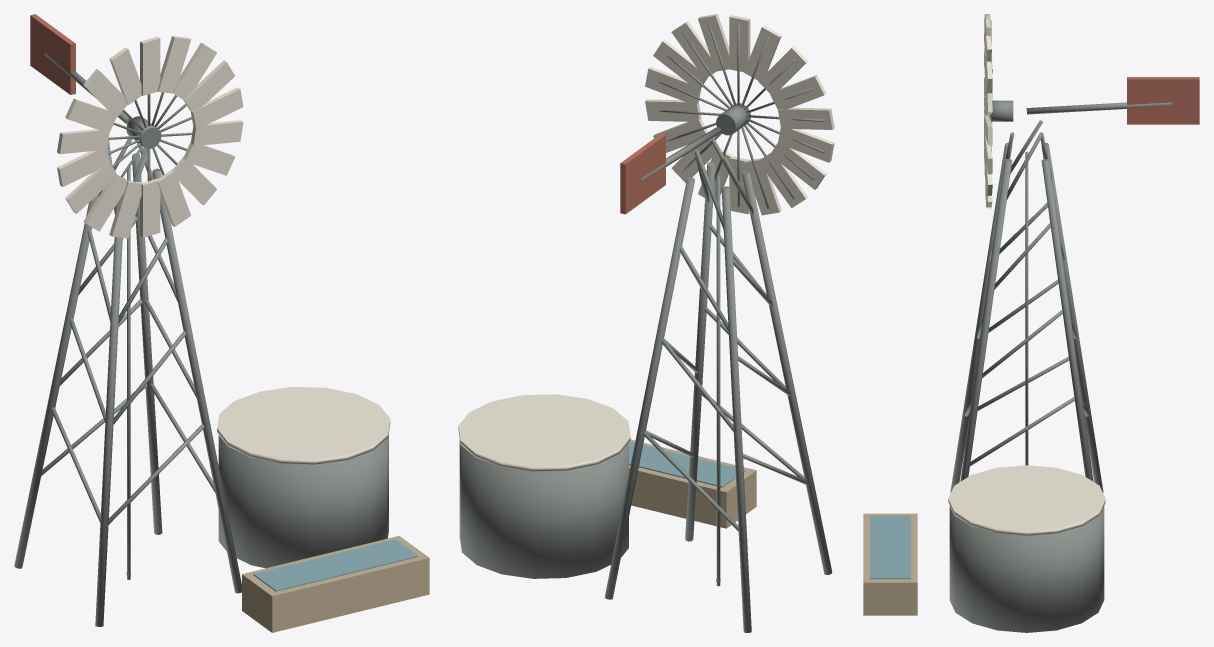
File: arizona-windpump_lod0.glb
3 renders of one model, left to right at view 1: azimuth 30°, elevation 25°; view 2: azimuth 150°, elevation 25°; view 3: azimuth 270°, elevation 25°, orthographic. The views are drawn at different scales.
Visible parts, largest first — view 1: RF_WaterTank, RF_TankTop, RF_Trough, RF_WindTower.003, RF_WindTower.001, RF_TroughWater, RF_WindTower.002, RF_WindTower, RF_TailVane, RF_PumpRod, RF_WindBlade.002, RF_WindBlade.001 (+19 smaller); view 2: RF_WaterTank, RF_TankTop, RF_Trough, RF_WindTower.002, RF_WindTower, RF_WindTower.001, RF_WindTower.003, RF_TailVane, RF_PumpRod, RF_TroughWater, RF_WindBlade.014, RF_WindBlade.015 (+19 smaller); view 3: RF_WaterTank, RF_TankTop, RF_TailVane, RF_Trough, RF_TroughWater, RF_WindTower.003, RF_WindTower, RF_WindTower.002, RF_WindTower.001, RF_PumpRod, RF_TailBoom, RF_TowerBrace.004 (+1 smaller).
Boxes of the visible parts, x1=… form: RF_WaterTank: x1=218, y1=433, x2=388, y2=568; RF_TankTop: x1=217, y1=387, x2=390, y2=464; RF_Trough: x1=242, y1=536, x2=429, y2=632; RF_WindTower.003: x1=152, y1=168, x2=241, y2=593; RF_WindTower.001: x1=95, y1=178, x2=125, y2=626; RF_TroughWater: x1=253, y1=539, x2=418, y2=591; RF_WindTower.002: x1=14, y1=193, x2=99, y2=568; RF_WindTower: x1=132, y1=153, x2=162, y2=534; RF_TailVane: x1=30, y1=14, x2=75, y2=94; RF_PumpRod: x1=127, y1=167, x2=130, y2=579; RF_WindBlade.002: x1=157, y1=36, x2=191, y2=93; RF_WindBlade.001: x1=140, y1=36, x2=160, y2=95; RF_WaterTank: x1=459, y1=440, x2=628, y2=578; RF_TankTop: x1=458, y1=394, x2=630, y2=471; RF_Trough: x1=629, y1=439, x2=756, y2=528; RF_WindTower.002: x1=721, y1=186, x2=751, y2=632; RF_WindTower: x1=604, y1=177, x2=694, y2=599; RF_WindTower.001: x1=742, y1=170, x2=832, y2=574; RF_WindTower.003: x1=685, y1=162, x2=715, y2=541; RF_TailVane: x1=620, y1=134, x2=665, y2=214; RF_PumpRod: x1=716, y1=175, x2=720, y2=586; RF_TroughWater: x1=629, y1=442, x2=745, y2=487; RF_WindBlade.014: x1=778, y1=125, x2=834, y2=162; RF_WindBlade.015: x1=778, y1=107, x2=834, y2=129; RF_WaterTank: x1=949, y1=506, x2=1104, y2=632; RF_TankTop: x1=948, y1=465, x2=1105, y2=535; RF_TailVane: x1=1127, y1=77, x2=1199, y2=124; RF_Trough: x1=863, y1=513, x2=917, y2=615; RF_TroughWater: x1=870, y1=516, x2=910, y2=579; RF_WindTower.003: x1=960, y1=159, x2=1012, y2=481; RF_WindTower: x1=1041, y1=159, x2=1093, y2=481; RF_WindTower.002: x1=1041, y1=142, x2=1103, y2=492; RF_WindTower.001: x1=950, y1=142, x2=1012, y2=492; RF_PumpRod: x1=1025, y1=151, x2=1028, y2=465; RF_TailBoom: x1=1026, y1=102, x2=1172, y2=114; RF_TowerBrace.004: x1=969, y1=397, x2=1074, y2=466.
Size of the model in its own units: 7.86 by 12.14 by 7.4.
